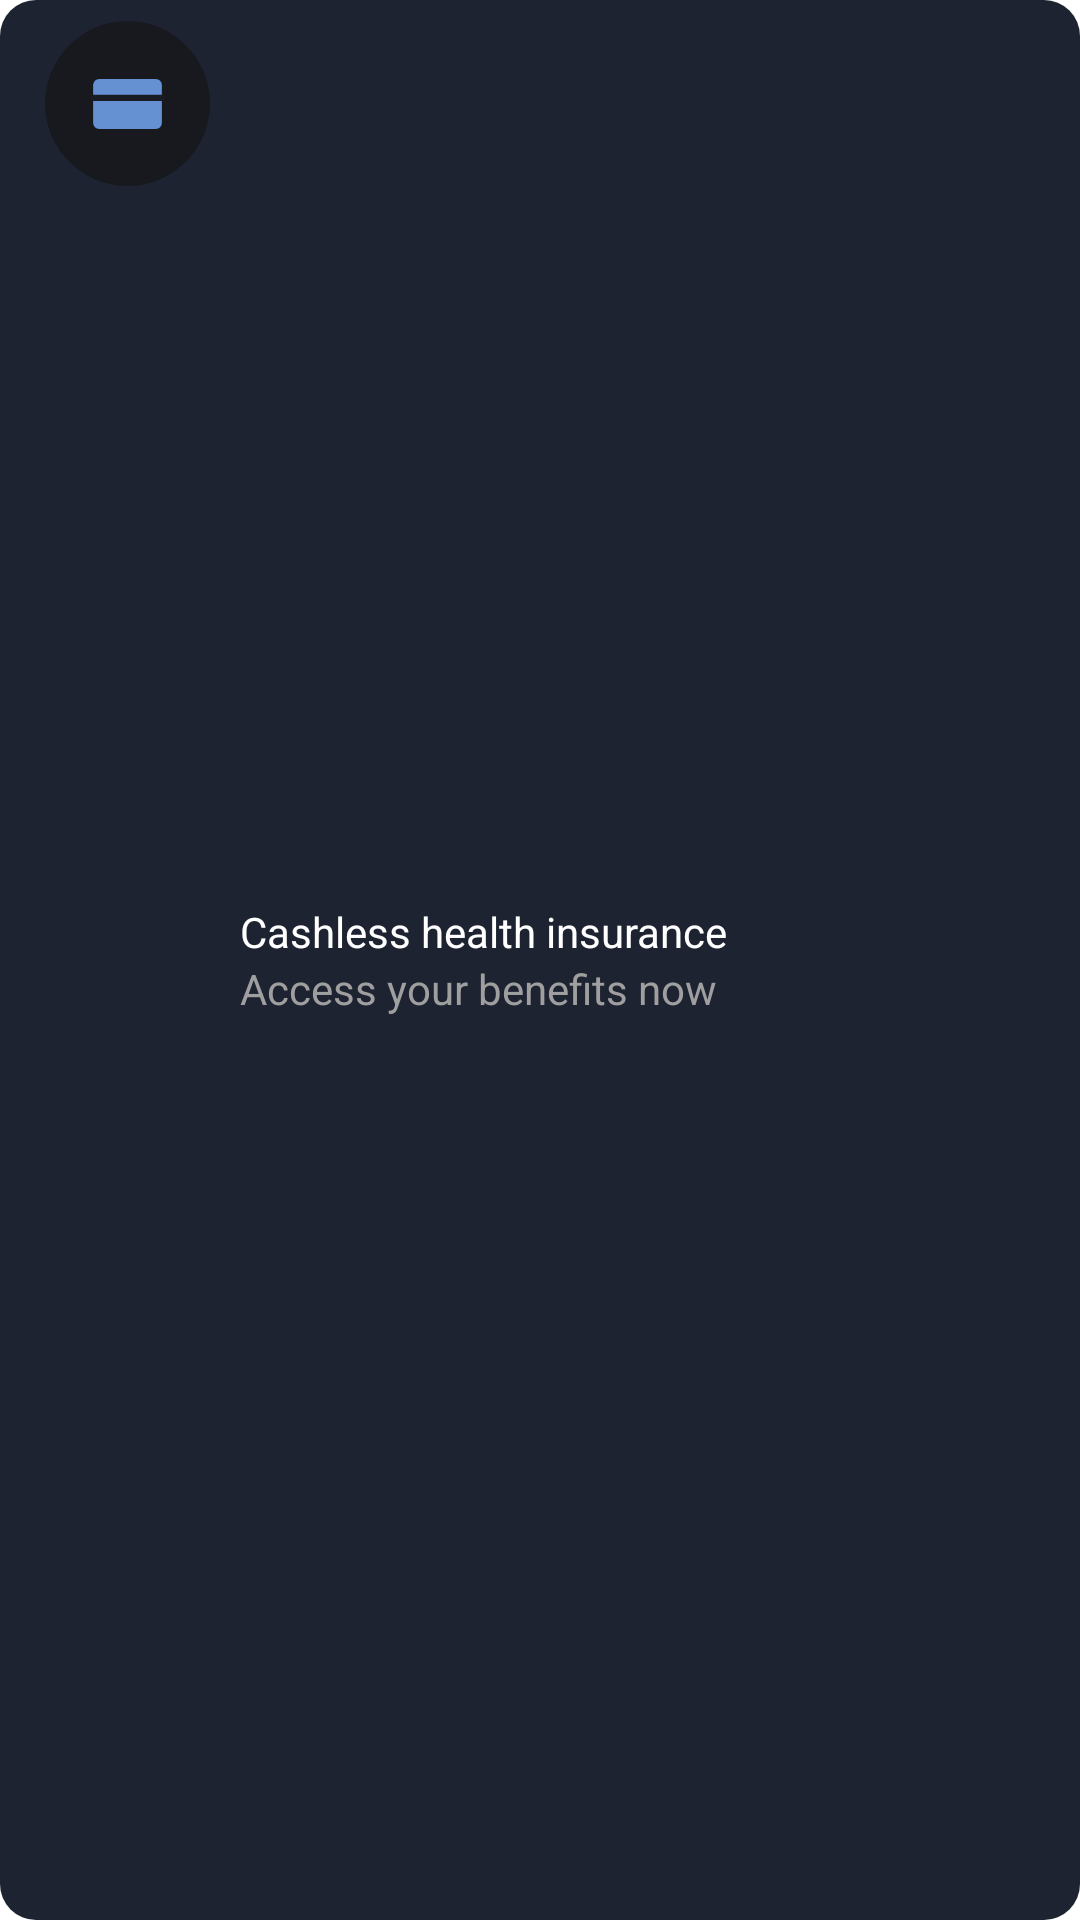

Icon click points for this 1080 × 1920 phone screenshot, format (x=x, y=y):
card: (x=127, y=104)
